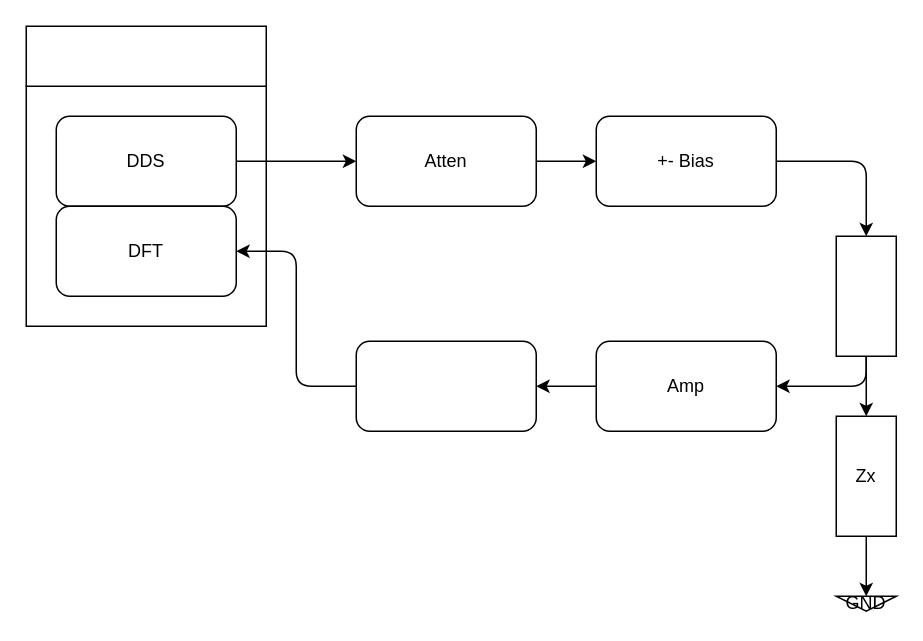
Some shapes in this 923 by 641 pixel diagram are drawn without their labels. Each missing label, with the centre of its shape:
1/2Vdd: pixel 445 385
AD5940/AD5933: pixel 145 55
ZRef: pixel 865 295
